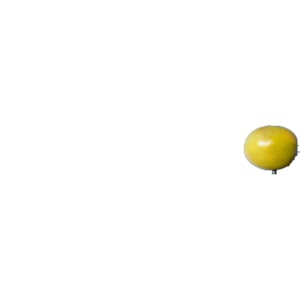maracujá: (244, 126, 300, 175)
